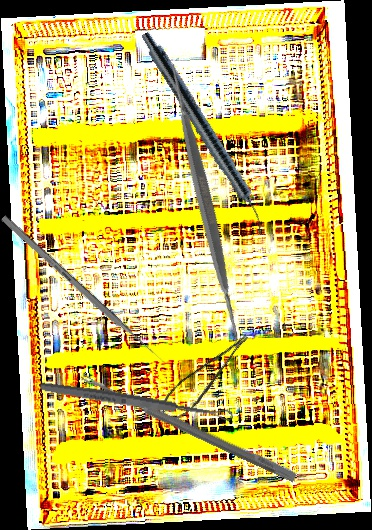Handpiece: (134, 28, 275, 237)
Micro Scissor: (150, 331, 263, 428)
Pusher: (0, 214, 166, 366)
Spatula Surgical: (52, 51, 357, 356)
Surgical Spoon: (78, 371, 298, 483), (39, 379, 234, 424)
